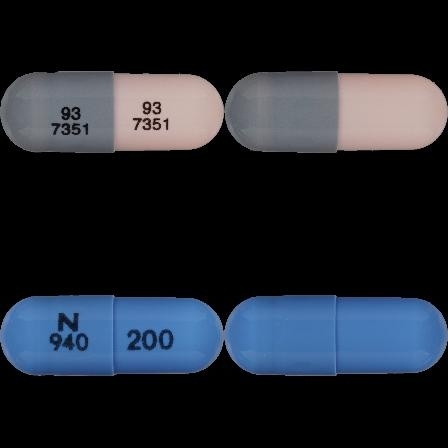63187-152: (0, 0, 224, 224)
